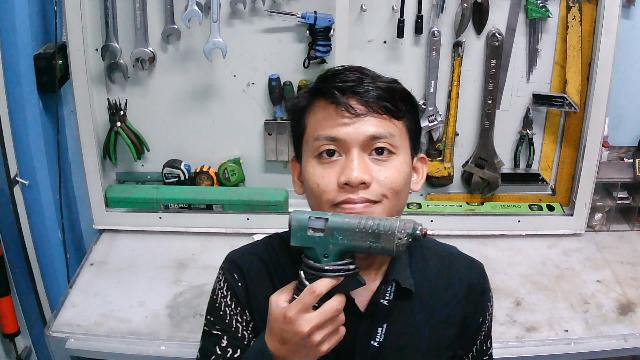gun_lem: (283, 207, 439, 322)
